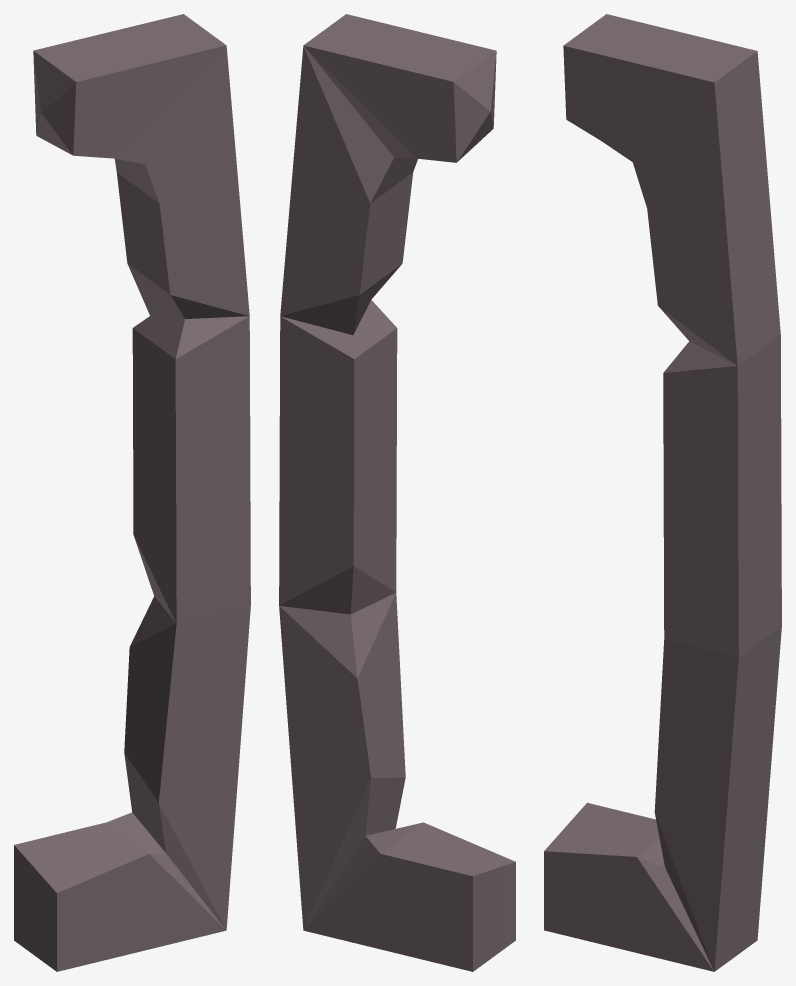
Rendered from SM_L_R_Home_pillar.fbx.
3 renders of one model, left to right at view 1: azimuth 30°, elevation 25°; view 2: azimuth 150°, elevation 25°; view 3: azimuth 330°, elevation 25°, orthographic.
Visible parts, largest first — view 1: SM_L_R_Home_Pillar; view 2: SM_L_R_Home_Pillar; view 3: SM_L_R_Home_Pillar.
Boxes of the visible parts, bbox=[...] form: SM_L_R_Home_Pillar: bbox=[14, 14, 250, 971]; SM_L_R_Home_Pillar: bbox=[279, 14, 515, 971]; SM_L_R_Home_Pillar: bbox=[544, 14, 781, 971].
Bounding box in the file's own units: 0.6892 × 3.01 × 0.2641.
1 material, 1 textured.
